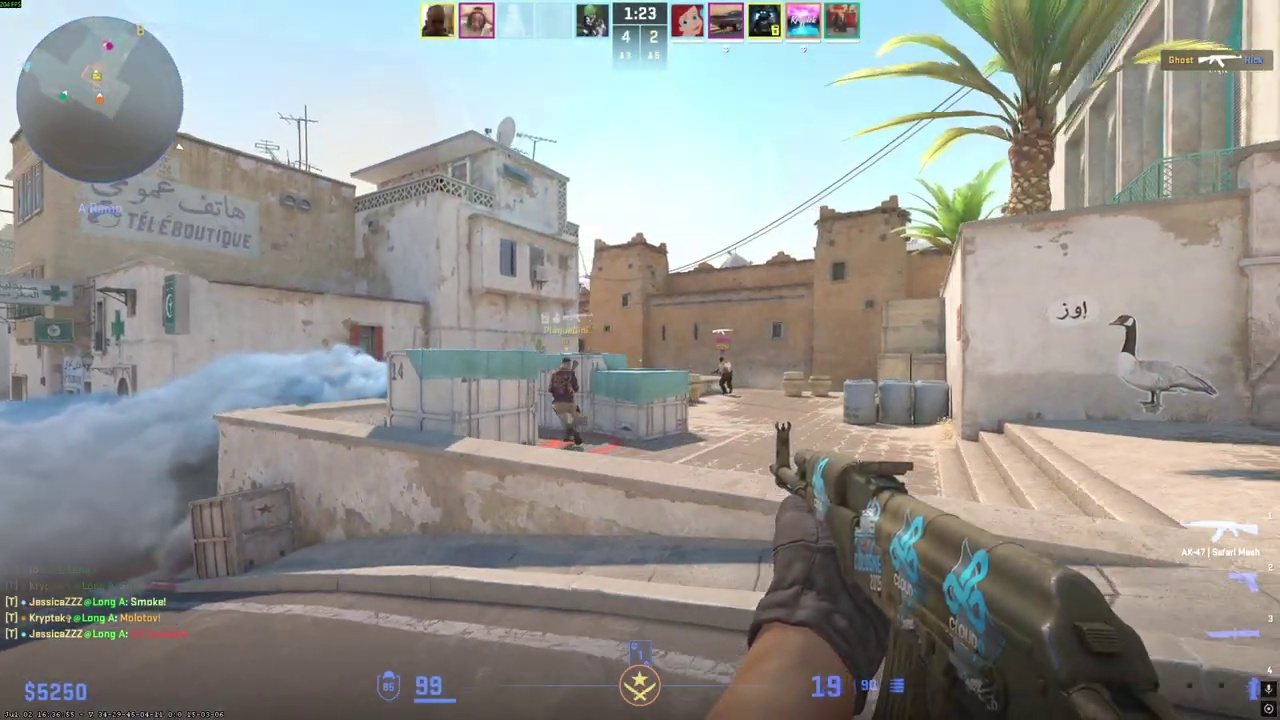Terrorist: (551, 358, 583, 445), (717, 356, 733, 395)
